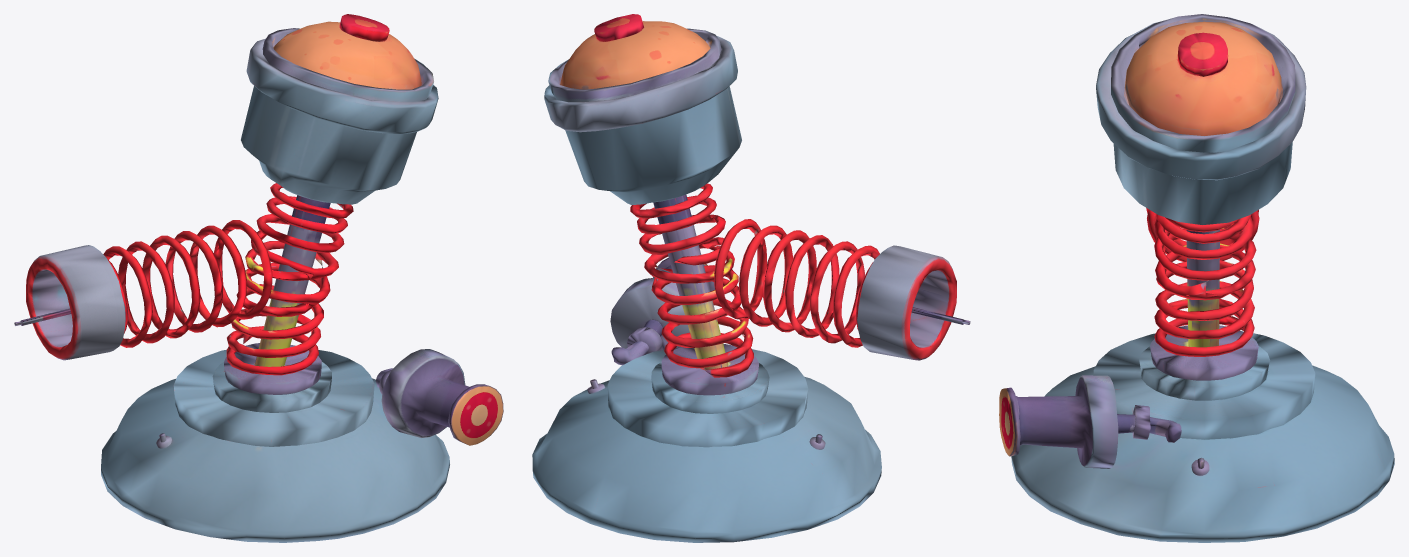
File: BoingOMatic.fbx
The picture shows the model from 3 angles, left to right: view 1: azimuth 30°, elevation 25°; view 2: azimuth 150°, elevation 25°; view 3: azimuth 270°, elevation 25°; orthographic projection. The views are drawn at different scales.
Visible parts, largest first — view 1: Mesh_0; view 2: Mesh_0; view 3: Mesh_0.
Part boxes in pixels (x1,y1,x2,y2): Mesh_0: [14, 14, 503, 542]; Mesh_0: [532, 14, 970, 542]; Mesh_0: [999, 14, 1394, 542].
Size of the model in its own units: 100 by 100 by 76.74.
1 material, 1 textured.
